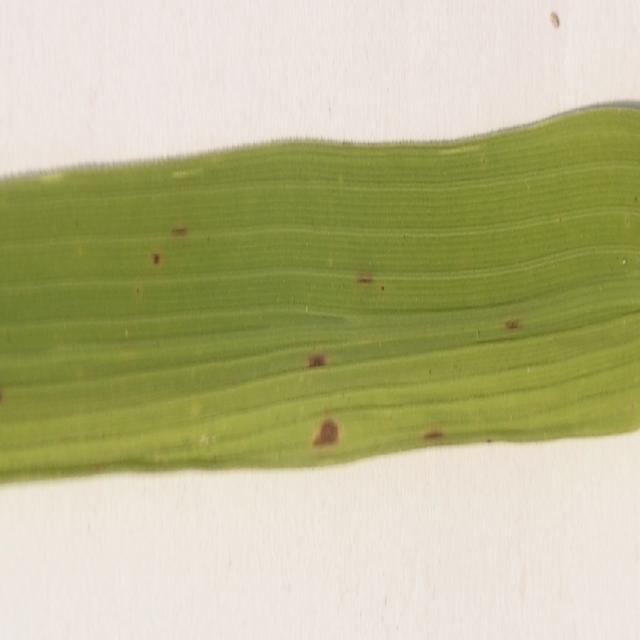brown spot: (306, 399, 343, 464), (303, 336, 331, 381), (418, 410, 448, 449), (498, 304, 526, 344), (354, 252, 374, 292), (169, 213, 191, 243), (150, 243, 162, 270), (0, 380, 8, 414)
